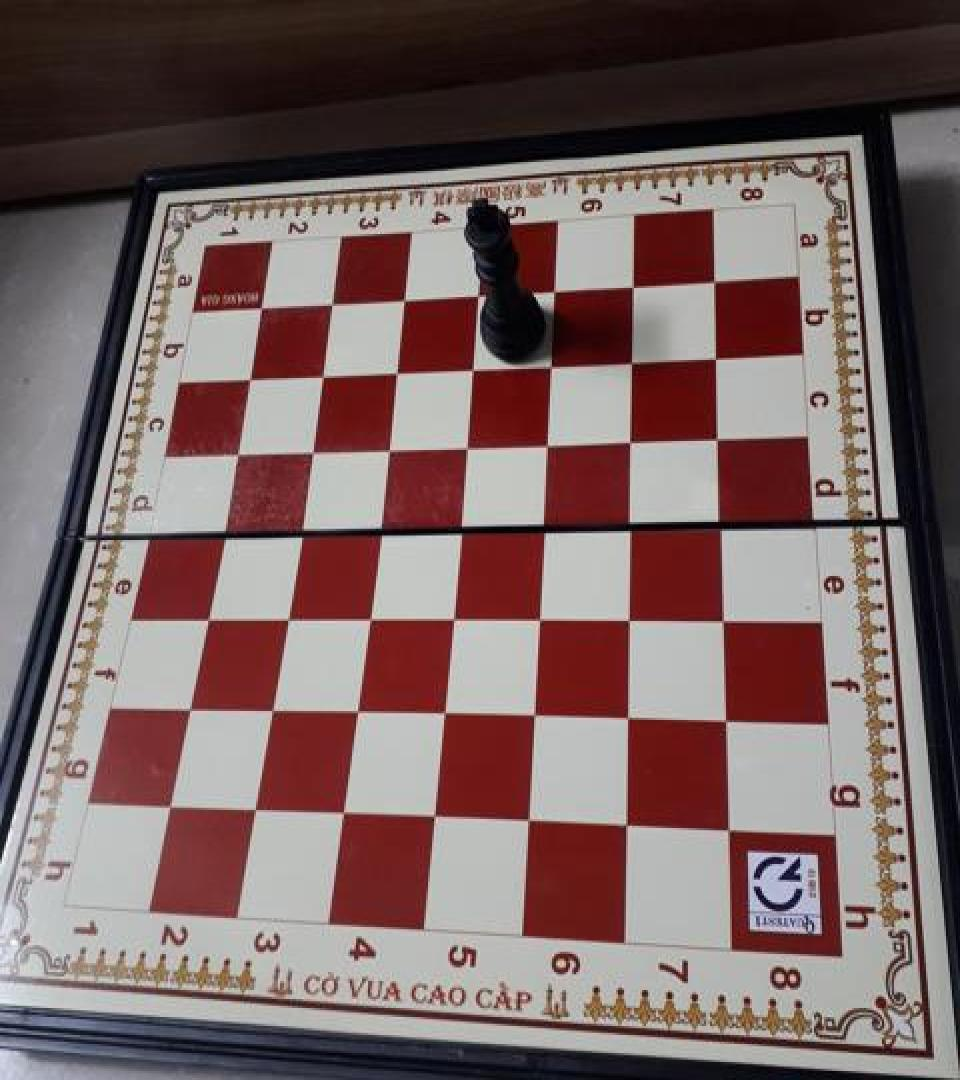xcorner: (611, 697, 643, 734), (517, 696, 549, 733), (417, 797, 449, 834), (699, 263, 731, 299), (617, 269, 649, 305), (538, 274, 570, 310), (462, 278, 494, 314), (387, 284, 419, 320), (314, 287, 346, 323), (244, 292, 276, 328), (700, 338, 732, 374), (616, 343, 648, 379), (535, 346, 567, 382), (455, 351, 487, 387), (378, 354, 410, 390), (304, 358, 336, 394), (231, 361, 263, 397), (702, 420, 734, 456), (615, 422, 647, 458), (531, 425, 563, 461), (449, 428, 481, 464), (369, 431, 401, 467), (292, 433, 324, 469), (217, 436, 249, 472), (704, 505, 736, 541), (614, 508, 646, 544), (526, 508, 558, 544), (442, 511, 474, 547), (359, 512, 391, 548), (280, 513, 312, 549), (202, 515, 234, 551), (706, 598, 738, 634), (612, 598, 644, 634), (522, 600, 554, 636), (434, 600, 466, 636), (349, 600, 381, 636), (267, 600, 299, 636), (187, 600, 219, 636), (709, 700, 741, 736), (426, 695, 458, 731), (338, 693, 370, 729), (252, 692, 284, 728), (170, 691, 202, 727), (711, 809, 743, 845), (609, 804, 641, 840), (511, 801, 543, 837), (325, 796, 357, 832), (237, 792, 269, 828), (152, 788, 184, 824)
